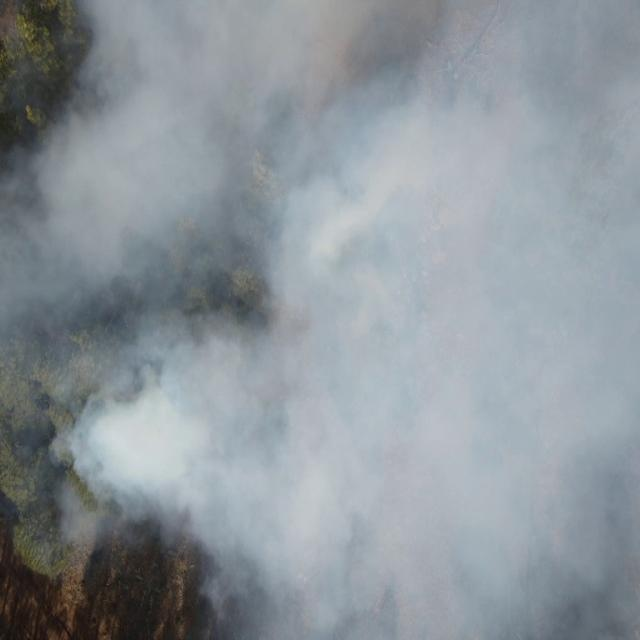smoke: (85, 0, 640, 551), (0, 34, 86, 574), (201, 554, 640, 640)
